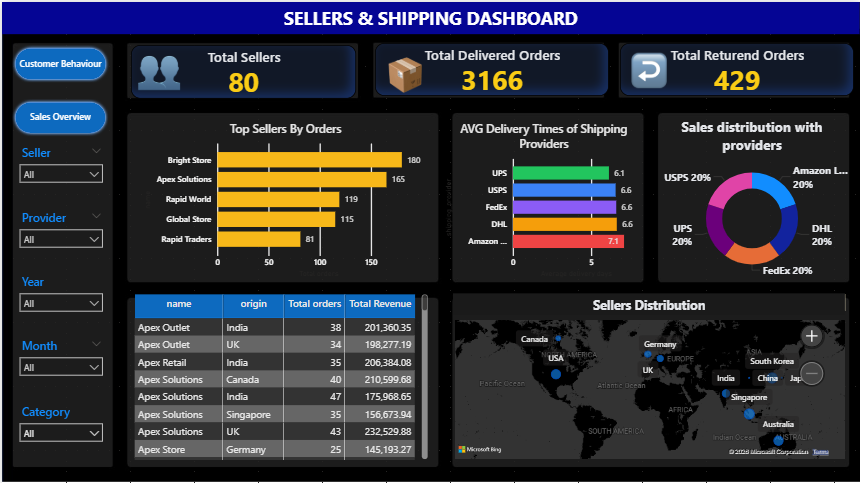

Layout of this report page (visuals, bound fields, positions):
{"tool":"powerbi","page":{"name":"Sellers & Shipping","canvas":[1280,720],"ordinal":2},"visuals":[{"type":"card","title":"Total Sellers","fields":{"Values":["shipping.Total sellers"]},"box":[191.8,63.9,336.1,80.3],"z":0},{"type":"clusteredBarChart","title":"AVG Delivery Times of Shipping Providers","fields":{"Y":["shipping.Average delivery days"],"Category":["shipping.shipping_provider"]},"box":[656,176,304,240],"z":1000},{"type":"card","title":"Total Returend Orders","fields":{"Values":["shipping.Returned Orders"]},"box":[922.4,61.2,349.3,79.1],"z":2000},{"type":"clusteredBarChart","title":"Top Sellers By Orders","fields":{"Category":["sellers.name"],"Y":["order_items.Total orders"]},"box":[208,176,432,240],"z":4000},{"type":"map","title":"Sellers''  Distribution","fields":{"Category":["sellers.origin"],"Size":["shipping.Total sellers"]},"box":[672,432,592,256],"z":5000},{"type":"tableEx","fields":{"Values":["sellers.name","sellers.origin","order_items.Total orders","order_items.Total Revenue"]},"box":[192,432,448,256],"z":7000},{"type":"textbox","box":[0,0,1280,48],"z":8000},{"type":"slicer","fields":{"Values":["category.category_name"]},"box":[16.4,593.4,144.3,80.3],"z":9000},{"type":"slicer","fields":{"Values":["calendar_table.Month"]},"box":[16,496,144,96],"z":10000},{"type":"slicer","fields":{"Values":["calendar_table.Year"]},"box":[16,400,144,96],"z":11000},{"type":"slicer","fields":{"Values":["sellers.name"]},"box":[16,208,144,80],"z":12000},{"type":"slicer","fields":{"Values":["shipping.shipping_provider"]},"box":[16,304,144,80],"z":13000},{"type":"shape","box":[15.6,144.4,144.4,55.6],"z":14000},{"type":"shape","box":[15.4,64.1,144.9,56.4],"z":15000},{"type":"shape","box":[673.8,432.8,585.2,34.4],"z":16000},{"type":"image","box":[197,59.7,74.6,80.6],"z":16001},{"type":"image","box":[934.3,65.7,62.7,73.1],"z":16003},{"type":"card","title":"Total Delivered Orders","fields":{"Values":["shipping.Delivered orders"]},"box":[556.7,61.2,349.3,79.1],"z":16004},{"type":"image","box":[546.3,77.6,110.4,62.7],"z":16005},{"type":"donutChart","title":"Sales distribution with  providers","fields":{"Category":["shipping.shipping_provider"],"Y":["Count(orders.order_id)"]},"box":[974.6,171.6,289.6,244.8],"z":16006}]}

Visuals, with their boxes in screenshot pixels (x1, y1, x2, y2), scaled from the page's 1280x720 canvas onto the 860x483 screenshot:
"Total Sellers" card: {"x1": 129, "y1": 43, "x2": 355, "y2": 97}
"AVG Delivery Times of Shipping Providers" clusteredBarChart: {"x1": 441, "y1": 118, "x2": 645, "y2": 279}
"Total Returend Orders" card: {"x1": 620, "y1": 41, "x2": 854, "y2": 94}
"Top Sellers By Orders" clusteredBarChart: {"x1": 140, "y1": 118, "x2": 430, "y2": 279}
"Sellers''  Distribution" map: {"x1": 452, "y1": 290, "x2": 849, "y2": 462}
tableEx - sellers.name x sellers.origin: {"x1": 129, "y1": 290, "x2": 430, "y2": 462}
textbox: {"x1": 0, "y1": 0, "x2": 859, "y2": 32}
slicer - category.category_name: {"x1": 11, "y1": 398, "x2": 108, "y2": 452}
slicer - calendar_table.Month: {"x1": 11, "y1": 333, "x2": 108, "y2": 397}
slicer - calendar_table.Year: {"x1": 11, "y1": 268, "x2": 108, "y2": 333}
slicer - sellers.name: {"x1": 11, "y1": 140, "x2": 108, "y2": 193}
slicer - shipping.shipping_provider: {"x1": 11, "y1": 204, "x2": 108, "y2": 258}
shape: {"x1": 10, "y1": 97, "x2": 108, "y2": 134}
shape: {"x1": 10, "y1": 43, "x2": 108, "y2": 81}
shape: {"x1": 453, "y1": 290, "x2": 846, "y2": 313}
image: {"x1": 132, "y1": 40, "x2": 182, "y2": 94}
image: {"x1": 628, "y1": 44, "x2": 670, "y2": 93}
"Total Delivered Orders" card: {"x1": 374, "y1": 41, "x2": 609, "y2": 94}
image: {"x1": 367, "y1": 52, "x2": 441, "y2": 94}
"Sales distribution with  providers" donutChart: {"x1": 655, "y1": 115, "x2": 849, "y2": 279}
